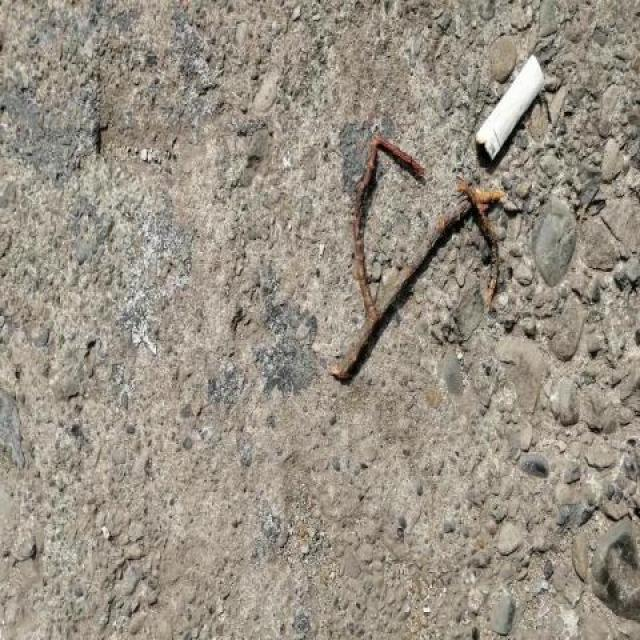non-organic waste: (471, 46, 549, 166)
